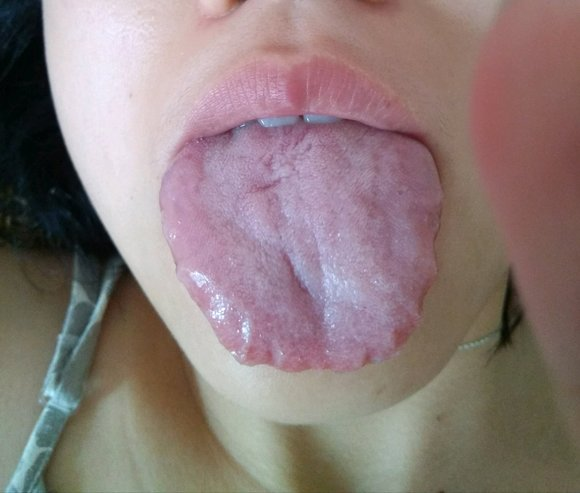baitaishe: (160, 120, 443, 373)
chihenshe: (411, 202, 443, 332)
liewenshe: (246, 126, 310, 195)
pangdashe: (160, 120, 443, 373)
